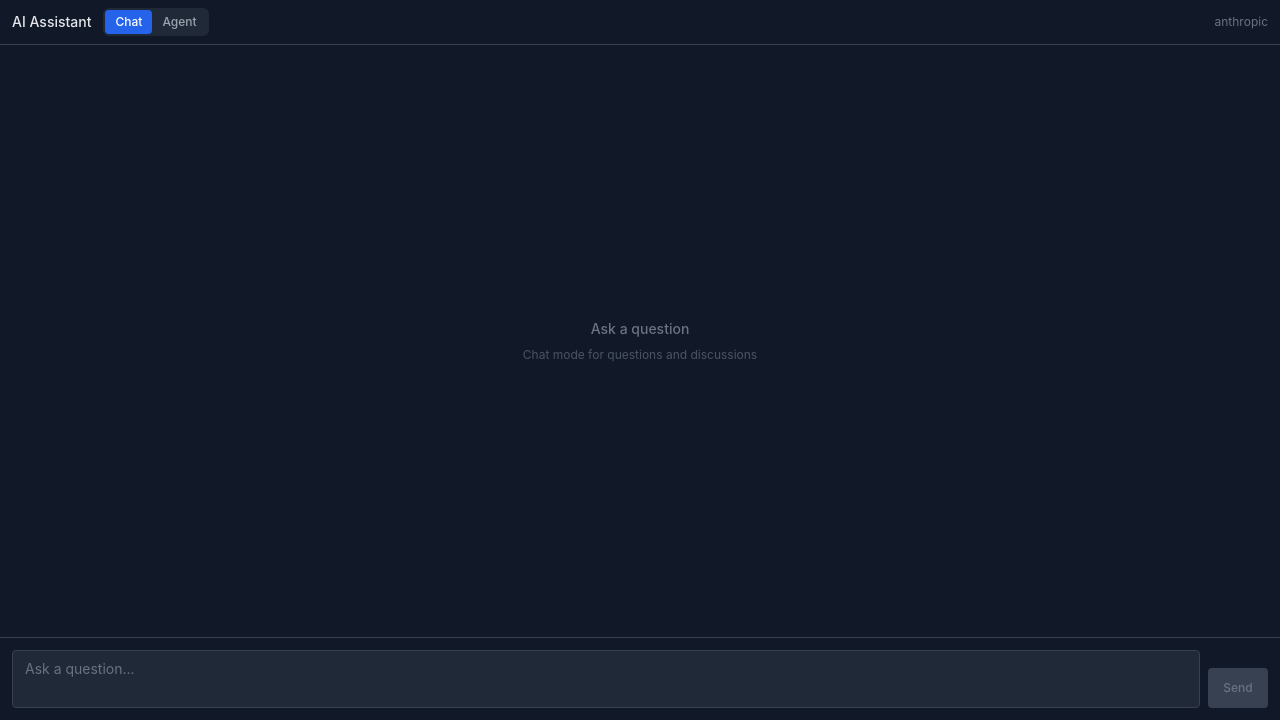
Test: AIPanel - Input › enables send button when text is entered
Type "Hello" into the text box with test id "ai-input" at (606, 679), box 12,650 -> 1200,708
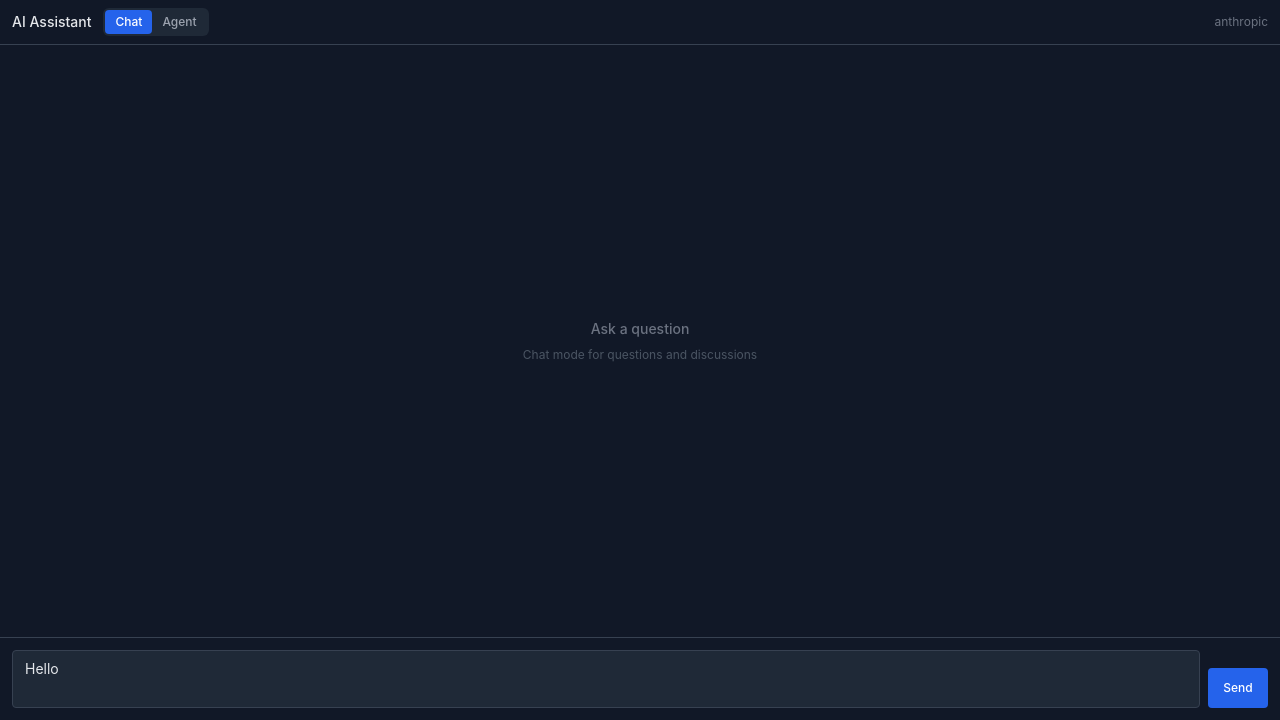
Result: the button with test id "ai-send" is enabled at 1208,668 -> 1268,708
